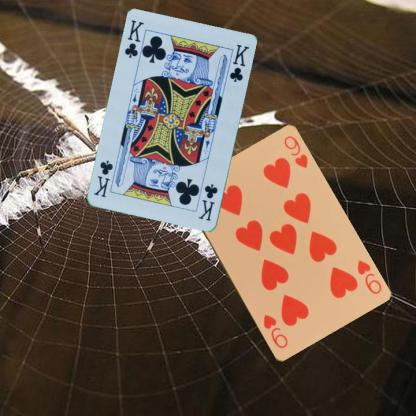9h: (354, 257, 383, 296)
Kc: (122, 18, 146, 59), (196, 182, 219, 223)
